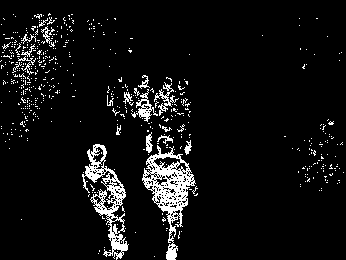person: (142, 135, 200, 260), (82, 143, 129, 259), (132, 73, 158, 155), (171, 77, 196, 155), (105, 74, 136, 136), (154, 75, 178, 140)
